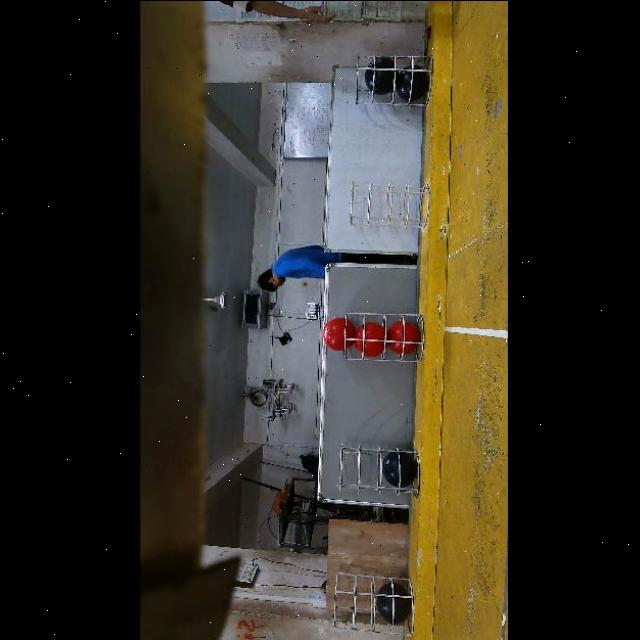P: (376, 582, 412, 624), (382, 452, 418, 486), (366, 57, 399, 94), (396, 64, 429, 100)
R: (355, 322, 389, 356), (387, 321, 420, 353), (324, 317, 356, 349)
S: (334, 568, 426, 638), (336, 442, 424, 502), (344, 310, 426, 368), (350, 178, 424, 238), (356, 51, 436, 105)
